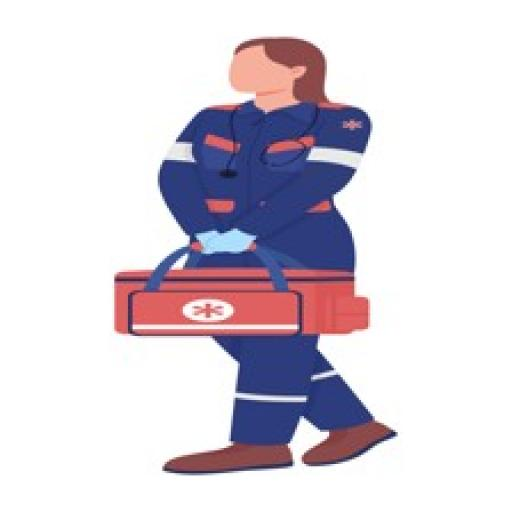human: (100, 23, 417, 479)
